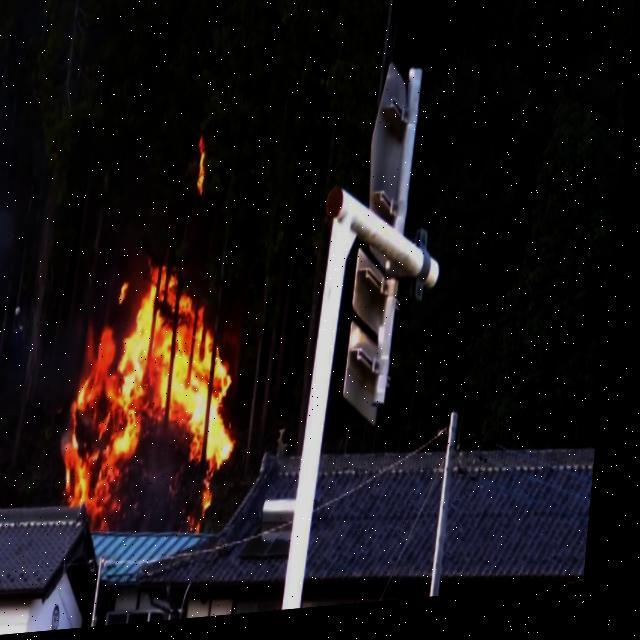Fire: (60, 252, 258, 546), (197, 134, 213, 202)
